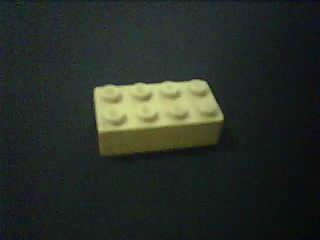lego: (91, 77, 224, 158)
